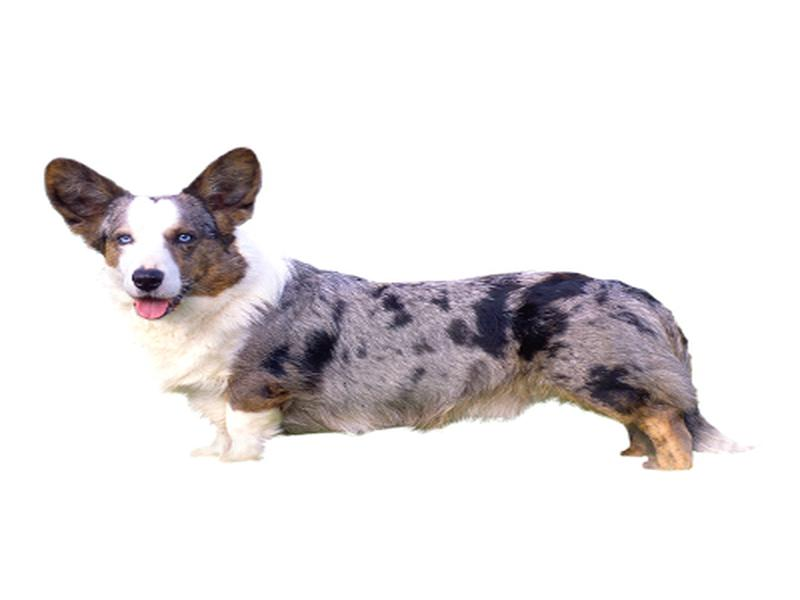corgi: (46, 147, 269, 322)
